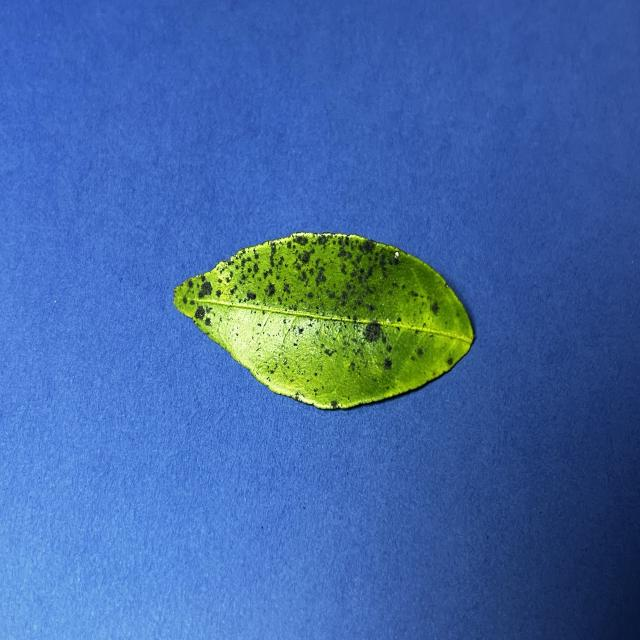sooty_mold: (174, 232, 474, 409)
